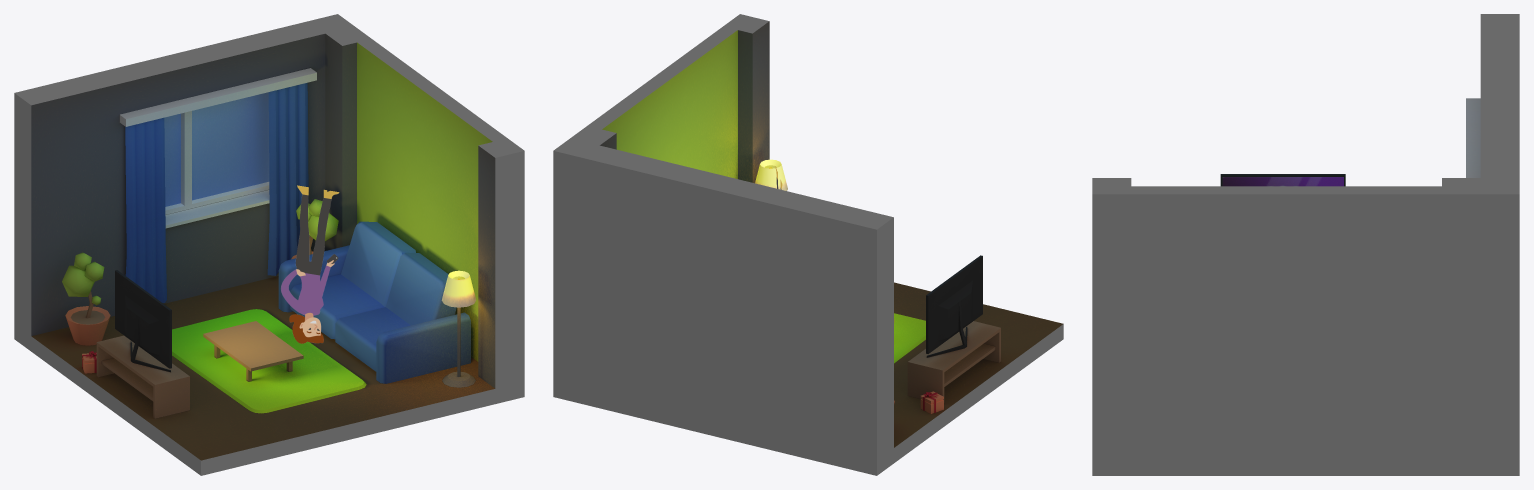
File: SBRO_Rooms_GEO_LivingRoom.glb
3 renders of one model, left to right at view 1: azimuth 30°, elevation 25°; view 2: azimuth 150°, elevation 25°; view 3: azimuth 270°, elevation 25°, orthographic. The views are drawn at different scales.
Parts seen in each view (by area): view 1: Plane.015, Cube, Plane.030, Plane.014, Character.003, Plane.017, TV, Plane.016, Plane.019, Circle.010, Plane.020; view 2: Plane.015, Plane.017, TV, Plane.014, Circle.010; view 3: Plane.015, TV.
Part boxes in pixels (x1,y1,x2,y2): Plane.015: (14, 14, 524, 475); Cube: (278, 221, 470, 383); Plane.030: (125, 82, 309, 302); Plane.014: (172, 309, 366, 413); Character.003: (281, 185, 339, 343); Plane.017: (96, 335, 189, 418); TV: (115, 270, 171, 372); Plane.016: (203, 321, 303, 381); Plane.019: (62, 252, 110, 345); Circle.010: (441, 270, 476, 387); Plane.020: (291, 199, 338, 259); Plane.015: (553, 14, 1063, 475); Plane.017: (907, 321, 1000, 402); TV: (926, 255, 982, 357); Plane.014: (894, 313, 925, 363); Circle.010: (755, 159, 787, 190); Plane.015: (1092, 14, 1519, 475); TV: (1220, 174, 1345, 186).
Size of the model in its own units: 4.4 by 3.2 by 4.4.
3 materials, 2 textured.
